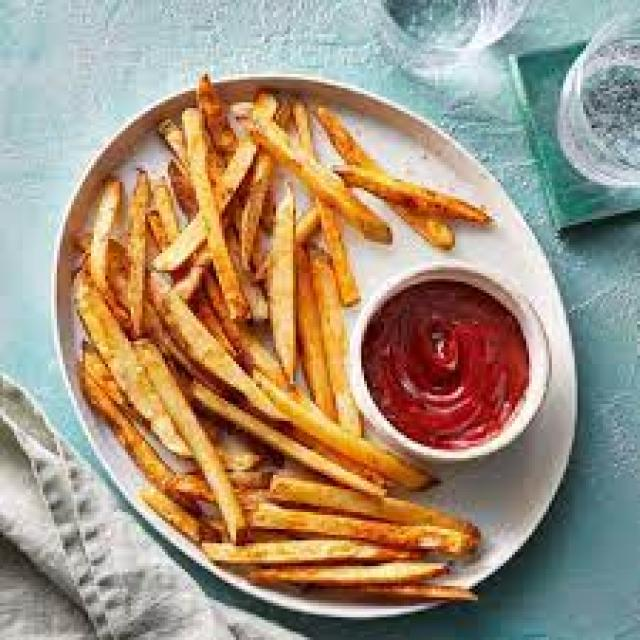감자튀김: (60, 24, 600, 630)
